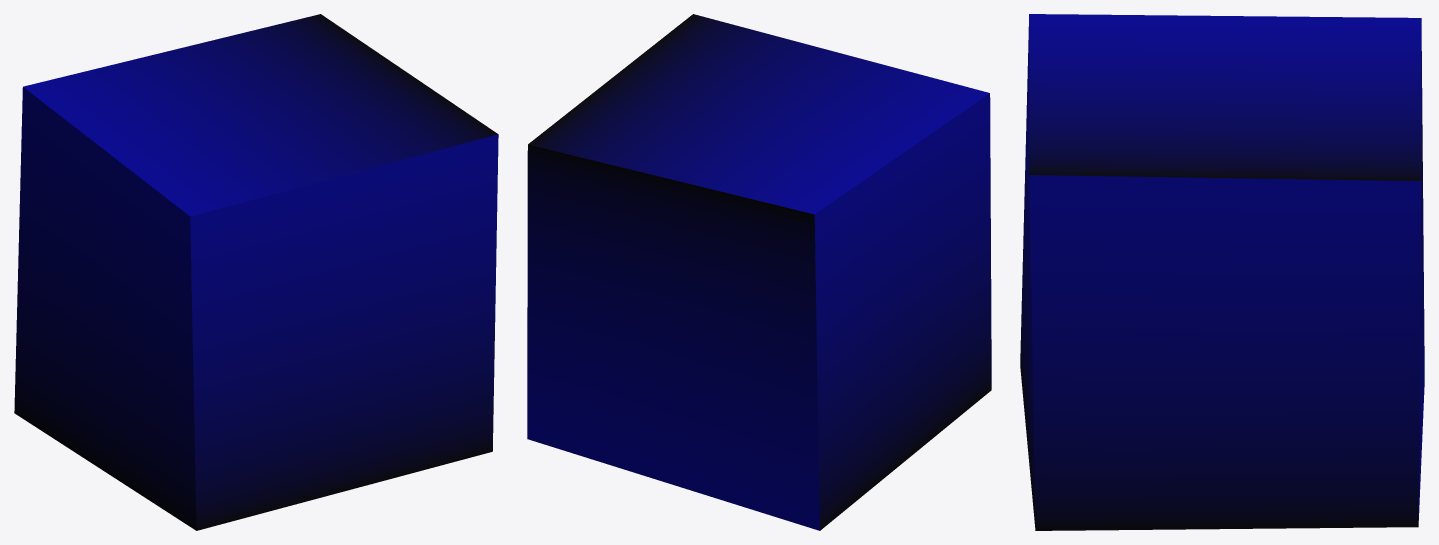
The model's file is Crate_Wood_Sml.glb.
The picture shows the model from 3 angles, left to right: view 1: azimuth 30°, elevation 25°; view 2: azimuth 150°, elevation 25°; view 3: azimuth 270°, elevation 25°; orthographic projection. The views are drawn at different scales.
Parts seen in each view (by area): view 1: MeshNode_0; view 2: MeshNode_0; view 3: MeshNode_0.
Part boxes in pixels (left/top/right/bottom): MeshNode_0: left=14, top=14, right=498, bottom=530; MeshNode_0: left=527, top=14, right=991, bottom=530; MeshNode_0: left=1020, top=14, right=1424, bottom=530.
Bounding box in the file's own units: 1.24 × 1.28 × 1.26.
